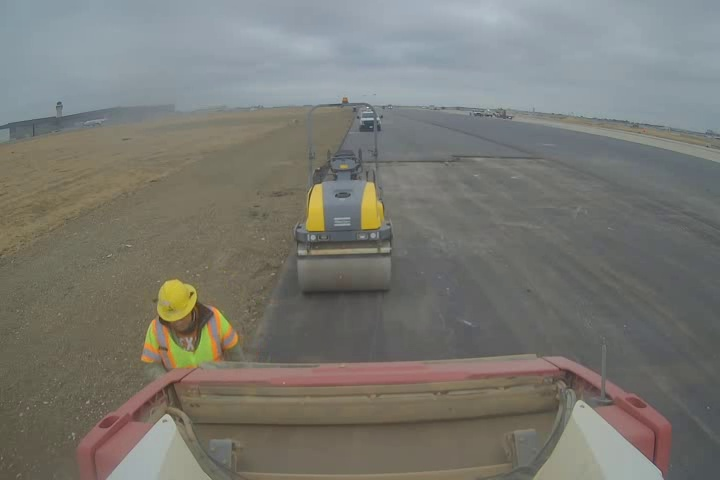person: (141, 271, 245, 382)
vehicle: (72, 351, 671, 480), (293, 102, 394, 293), (351, 108, 385, 130)
vest: (143, 301, 242, 366)
yellow_helmet: (152, 275, 204, 335)
